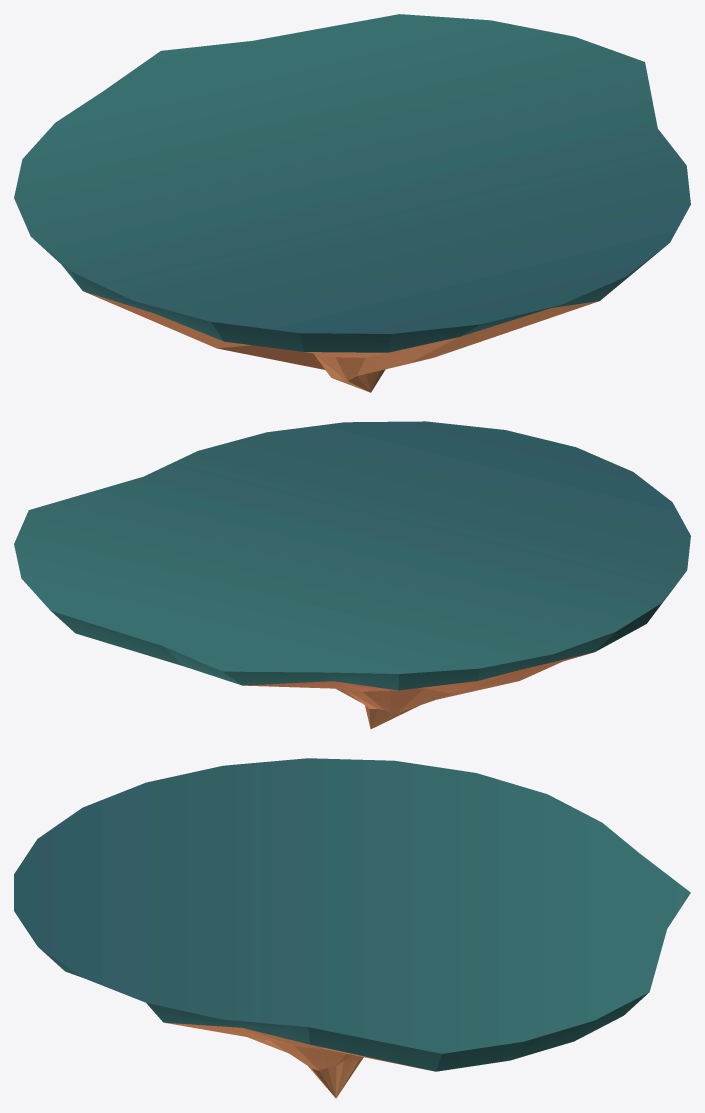
Rendered from floating island.glb.
The picture shows the model from 3 angles, top to bottom: view 1: azimuth 30°, elevation 25°; view 2: azimuth 150°, elevation 25°; view 3: azimuth 270°, elevation 25°; orthographic projection. The views are drawn at different scales.
Parts seen in each view (by area): view 1: Cylinder.001, Cylinder; view 2: Cylinder.001, Cylinder; view 3: Cylinder.001, Cylinder.
Boxes of the visible parts, box(x1,y1,x2,y2) form: Cylinder.001: box(14, 14, 690, 352); Cylinder: box(84, 291, 598, 392); Cylinder.001: box(14, 421, 690, 690); Cylinder: box(245, 652, 592, 728); Cylinder.001: box(14, 758, 690, 1071); Cylinder: box(165, 1022, 428, 1098).
Size of the model in its own units: 22.36 by 6.92 by 21.63.
1 material, 1 textured.
